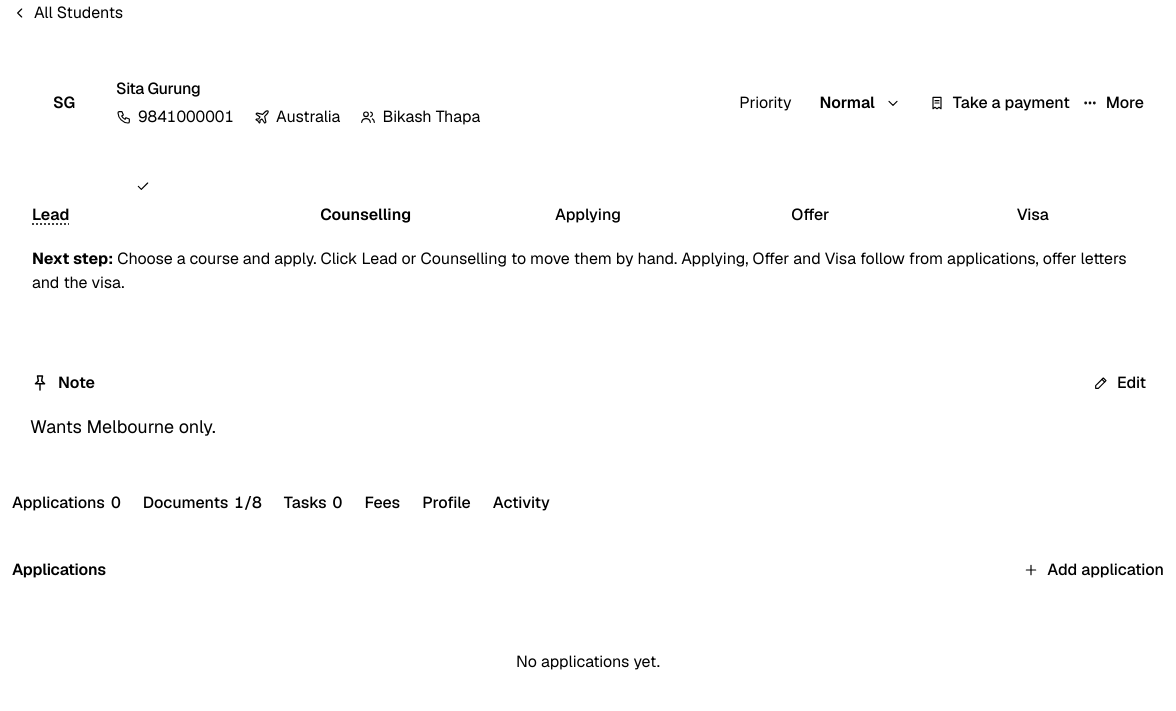
Test: the Fees tab, for an Admin › shows an overpayment as nothing owed, and says how much more was paid
Click the tab "Fees": (382, 503) [364, 481, 400, 525]
(page scrolled)
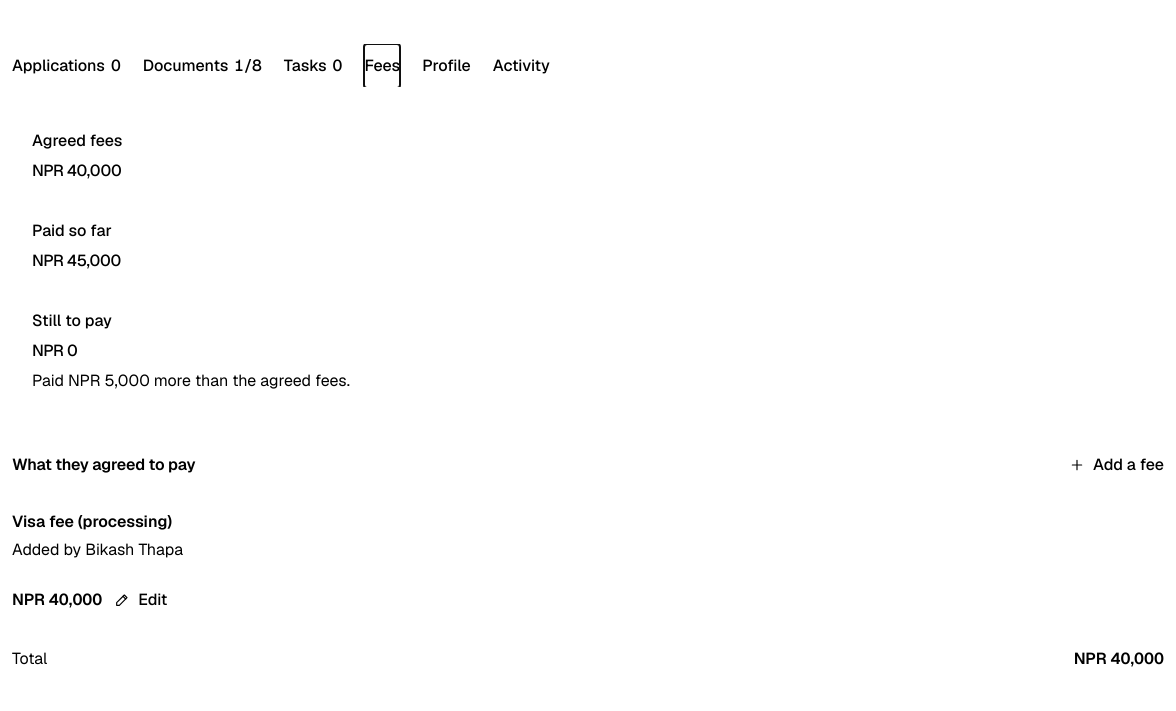
Check: the text "Paid NPR 5,000 more than the agreed fees." is shown, box [32, 370, 350, 391]
